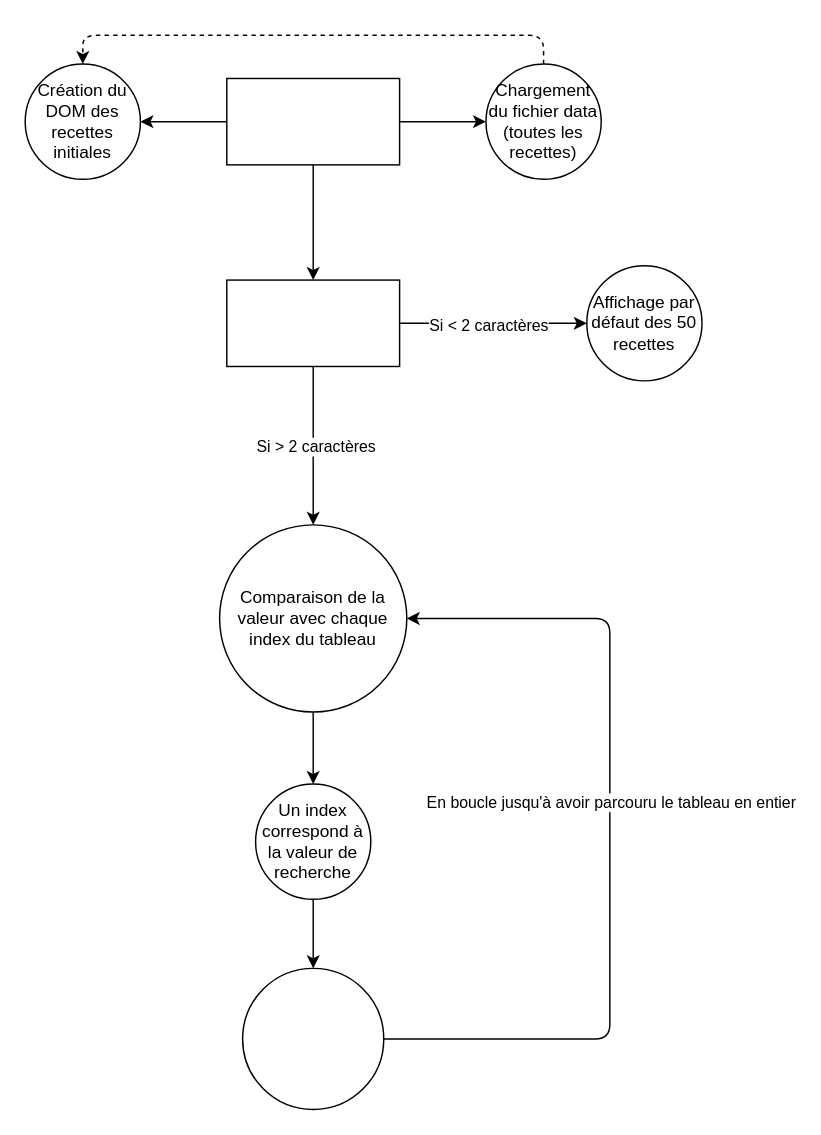
Image size: 821x1135. Some labels were removed from this diagram. Here are the shapes that lost their labels. From the top down, the centre of each, then its label:
the point at 312,121: Ouverture de la page
the point at 312,322: Saisie dans le champ de recherche
the point at 312,1038: Affichage de X index correspondants aux recettes filtrées
